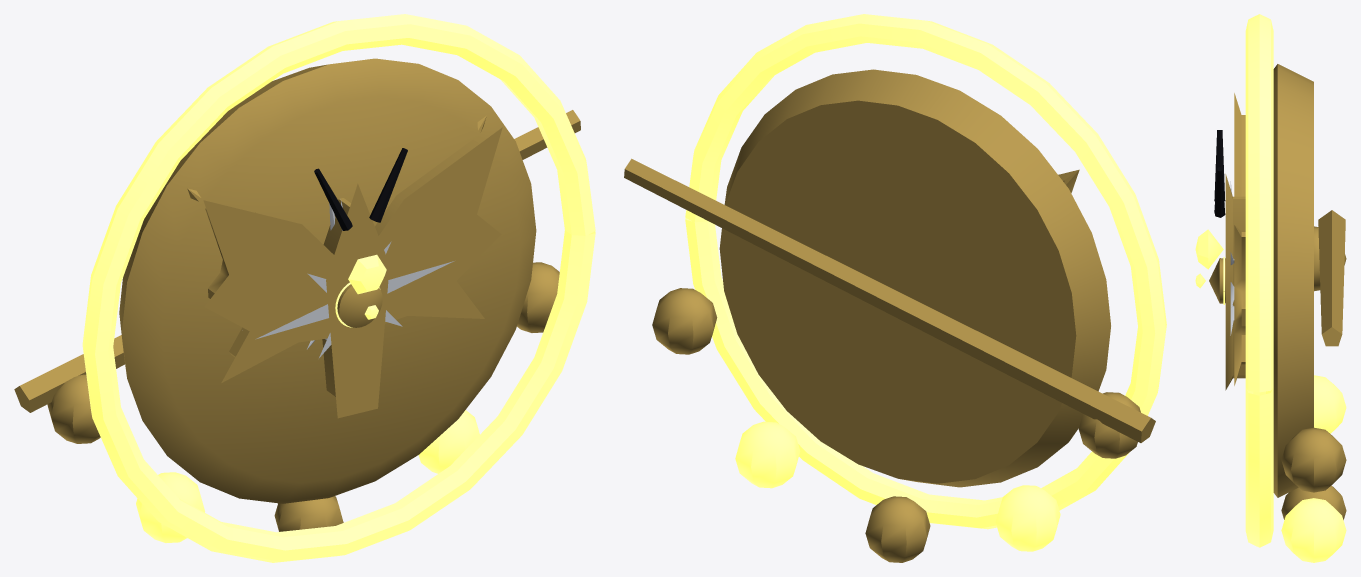
File: esc_null_reaper_accessory.glb
The picture shows the model from 3 angles, left to right: view 1: azimuth 30°, elevation 25°; view 2: azimuth 150°, elevation 25°; view 3: azimuth 270°, elevation 25°; orthographic projection. The views are drawn at different scales.
Visible parts, largest first — view 1: esc_null_reaper_accessory; view 2: esc_null_reaper_accessory; view 3: esc_null_reaper_accessory.
Boxes of the visible parts, x1=… form: esc_null_reaper_accessory: x1=14, y1=14, x2=595, y2=562; esc_null_reaper_accessory: x1=624, y1=14, x2=1166, y2=562; esc_null_reaper_accessory: x1=1195, y1=14, x2=1346, y2=562.
Bounding box in the file's own units: 0.1616 × 0.153 × 0.0417.
